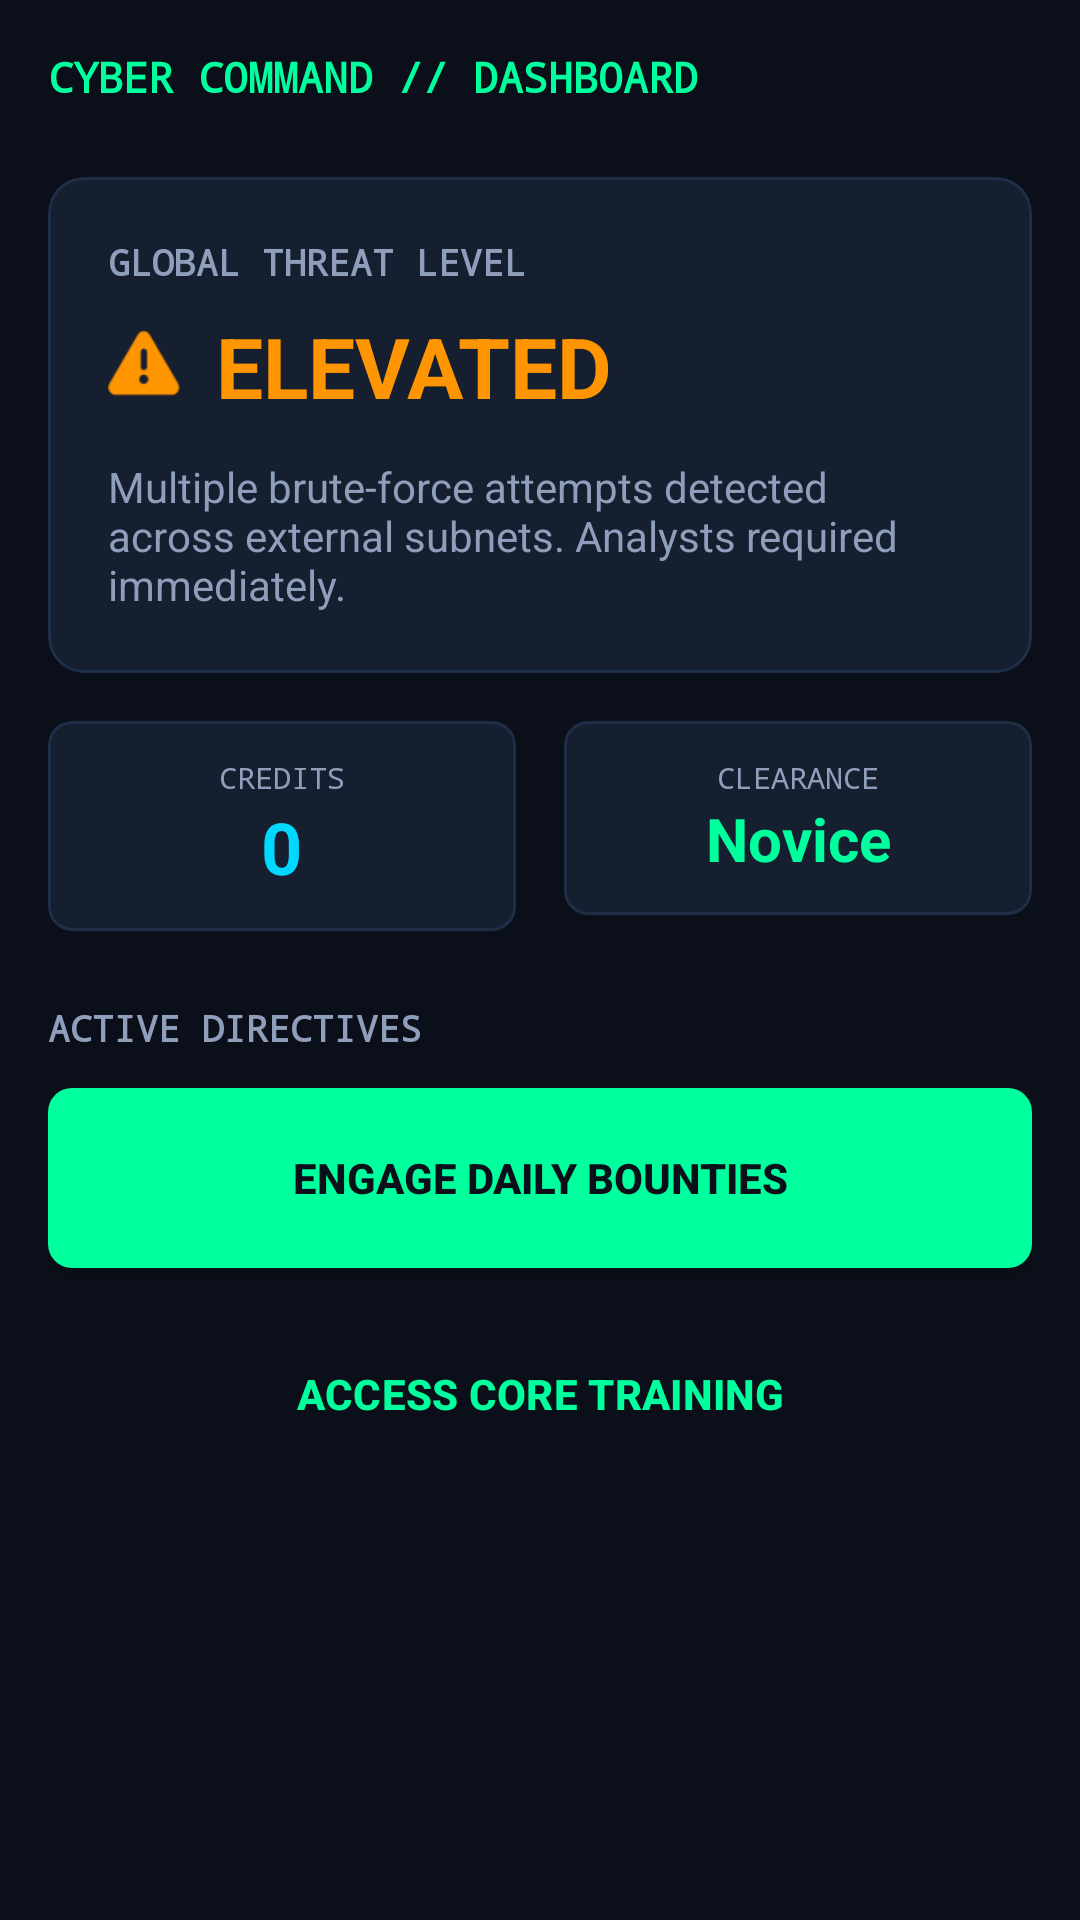

Icons on this 1080×1920 Android screen, each with its box as (left=x1, top=y1, right=x2, bottom=y2):
alert: (left=108, top=330, right=180, bottom=396)
